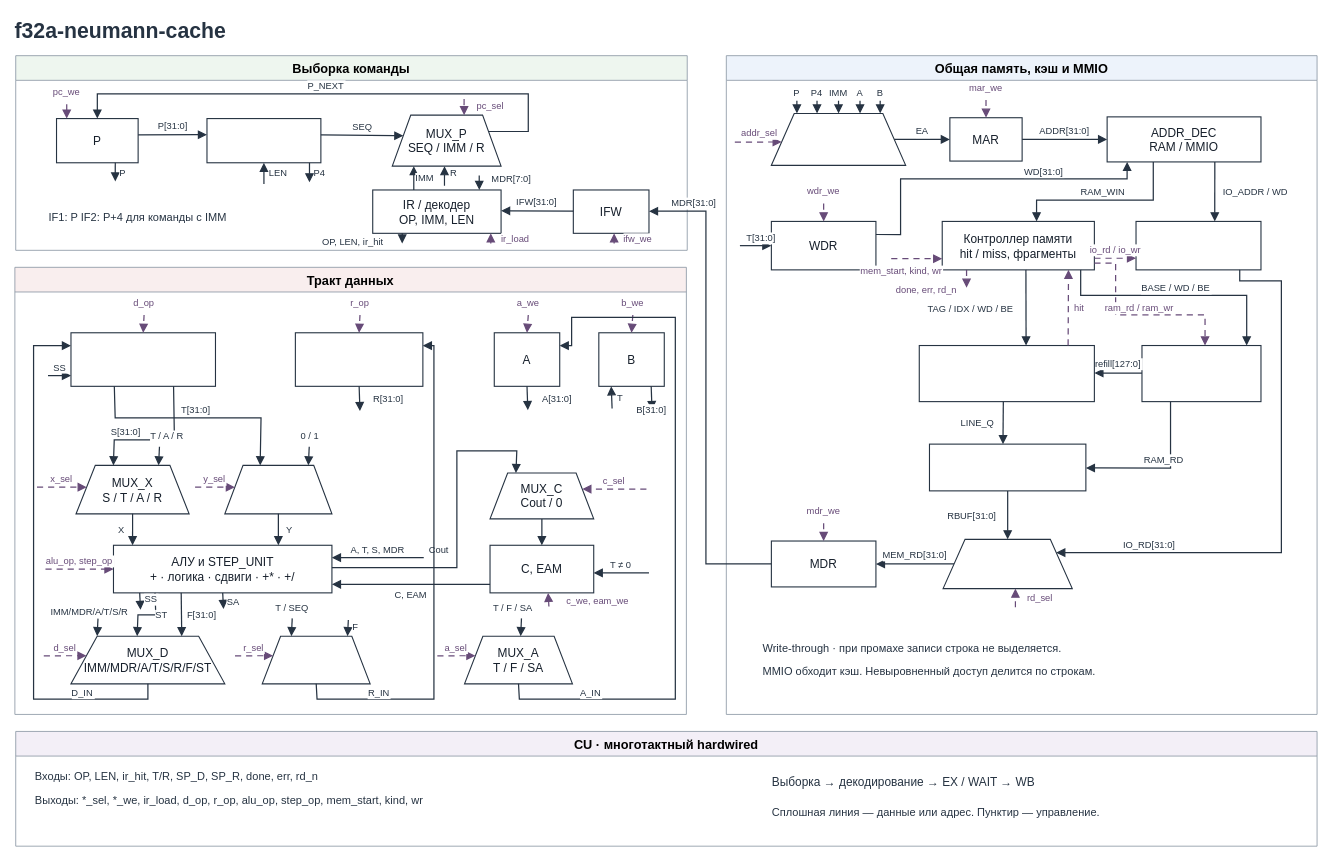
Image size: 1332x861. Some labels were removed from this diagram. Each missing label, with the centre of its shape:
"ADD_P P + len / P + 4" belongs at point (263, 140).
"D_STACK T, S, SP_D" belongs at point (143, 359).
"MMIO порты 0x80, 0x84" belongs at point (1198, 245).
"MUX_ADDR P / P4 / IMM / A / B" belongs at point (838, 139).
"MUX_FRAG / RBUF сборка слова" belongs at point (1007, 467).
"MUX_R T / SEQ / F" belongs at point (315, 659).
"MUX_RD RBUF / IO_RD" belongs at point (1007, 563).
"MUX_Y T / 0 / 1" belongs at point (278, 489).
"R_STACK R, SP_R" belongs at point (358, 359).
"RAM код и данные" belongs at point (1201, 373).
"Кэш · 16 × 16 байт TAG / V + DATA" belongs at point (1006, 373).
